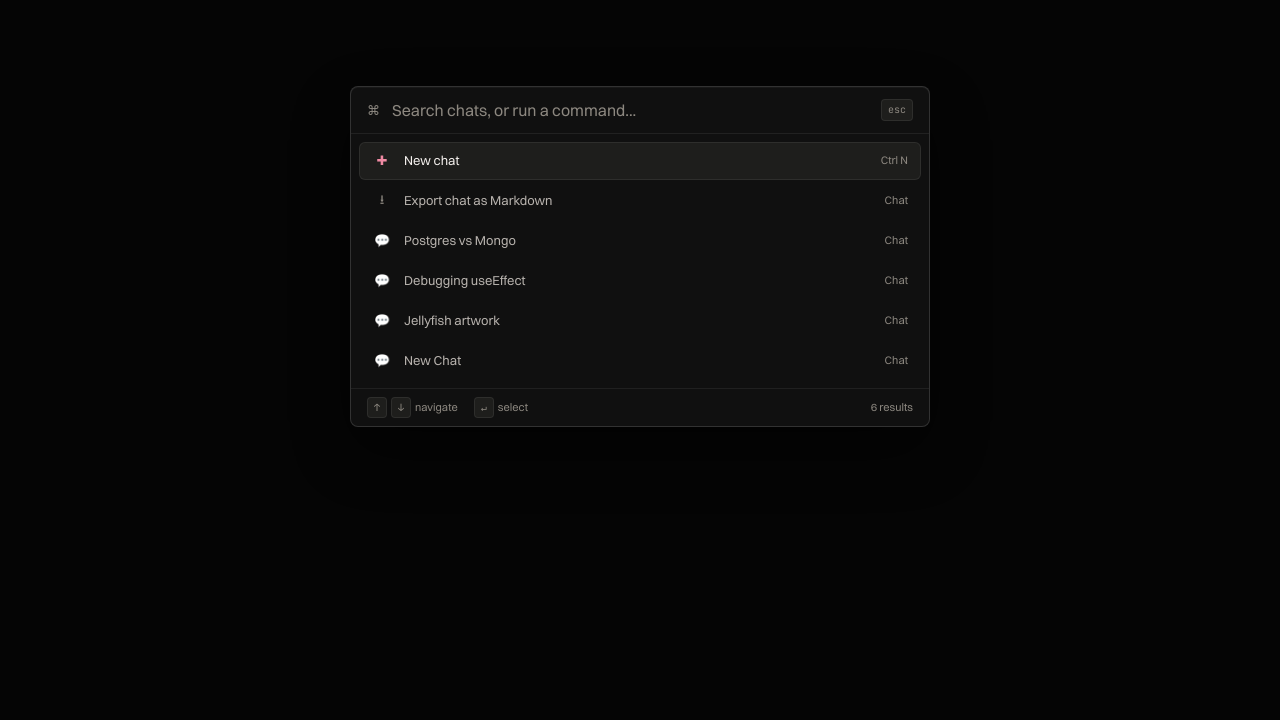
Scenario: CommandPalette › can still find actions by name
In the field: (630, 110) [392, 100, 869, 121], type "markdown"
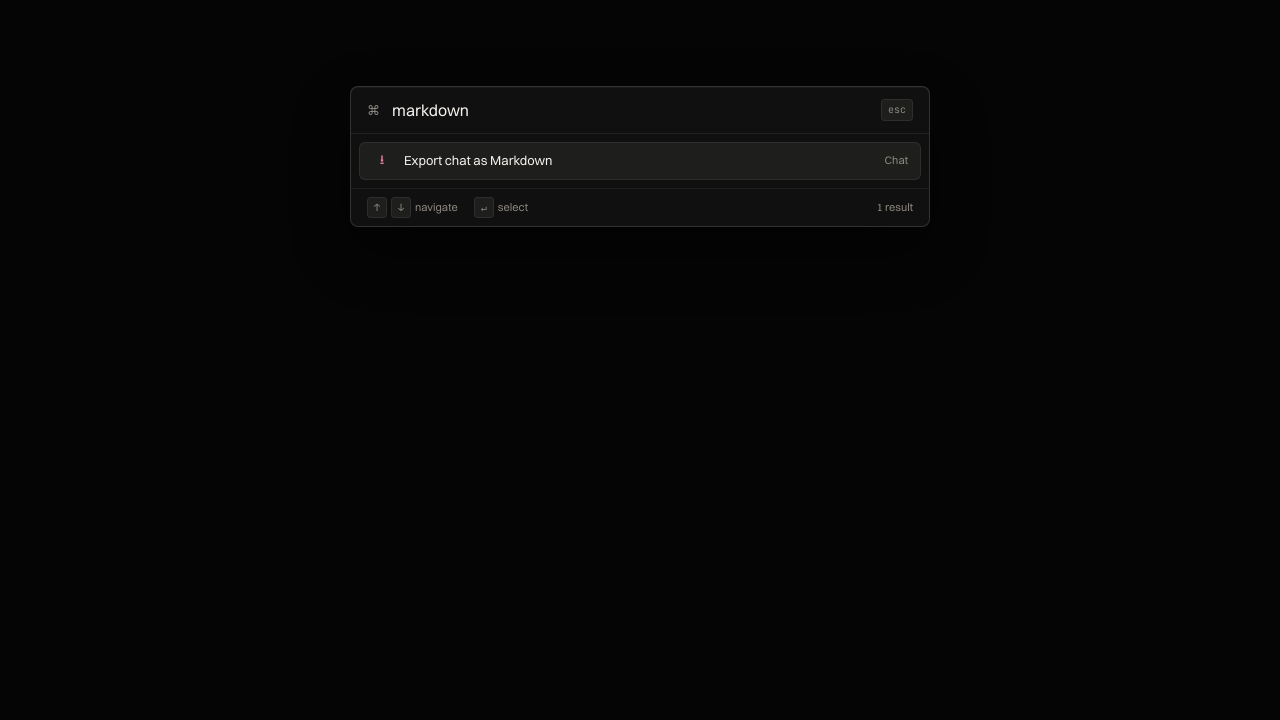
Expected: the option shows "Export chat as Markdown", [359, 142, 921, 180]
Now the number of options is 1, box [359, 142, 921, 180]
